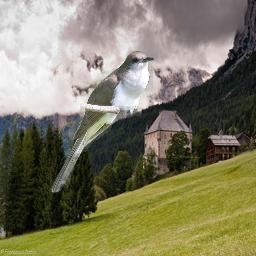Cuckoo: (50, 51, 154, 193)
